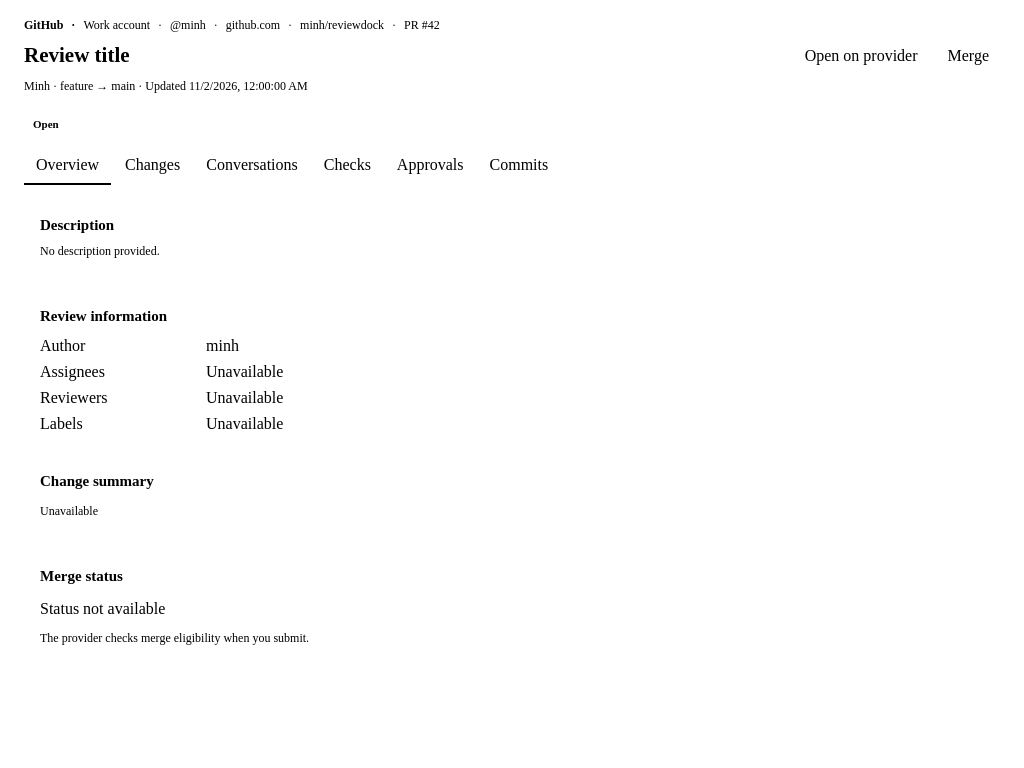
Test case: ReviewDock webview entry point › gives the inline composer dialog semantics, traps tab focus, and restores focus on Escape
This screenshot has width=1024, height=768.
Click the button "Changes".
click(153, 165)  # box [113, 145, 192, 185]
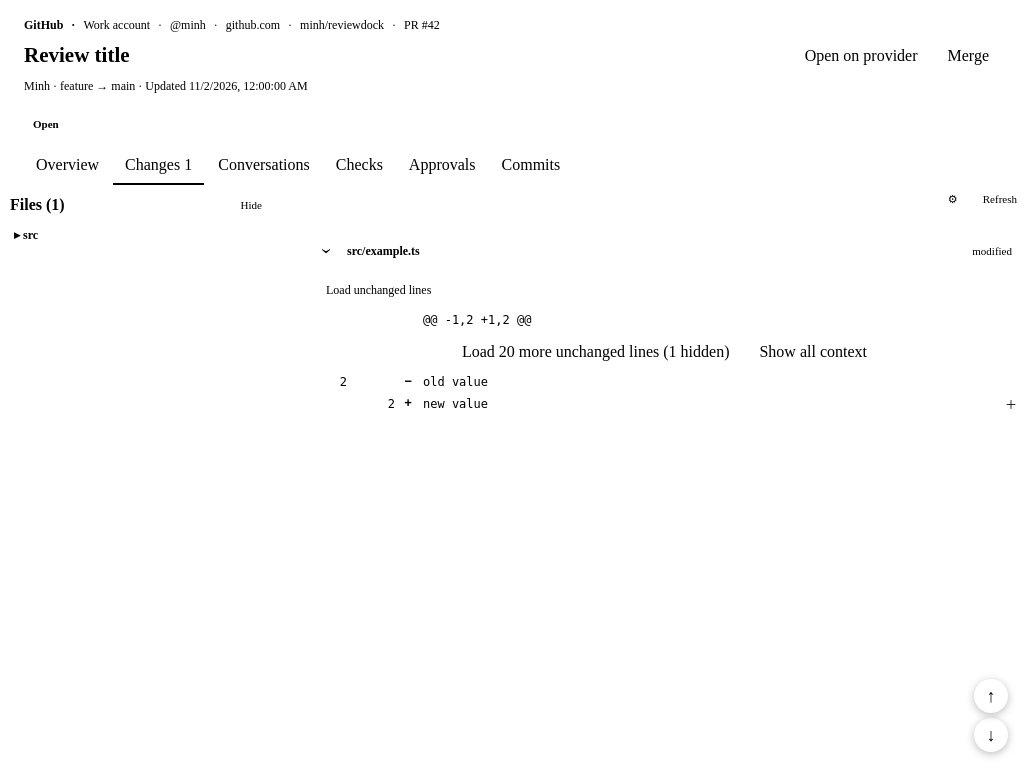
Click the button named "Comment on src/example.ts line 2".
click(1011, 405)  # box [998, 394, 1023, 416]
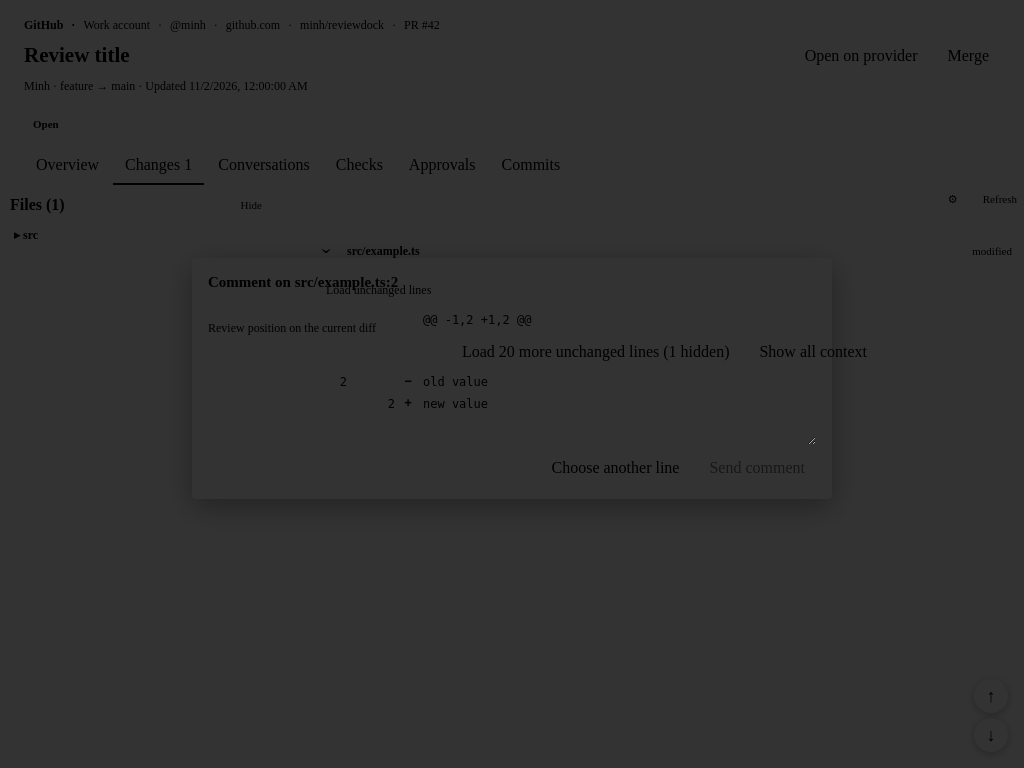
Press Tab in the button "Send comment", box [698, 452, 816, 482]
Press Escape in the text box named "Inline comment", box [208, 352, 816, 444]
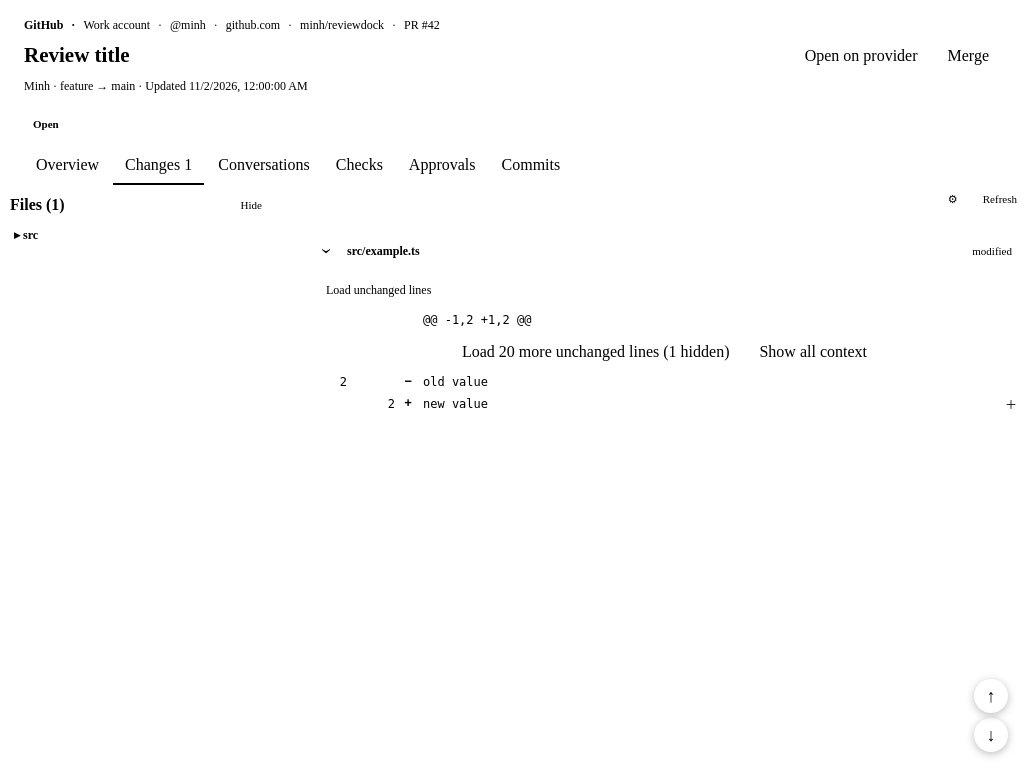
Now the dialog is gone
